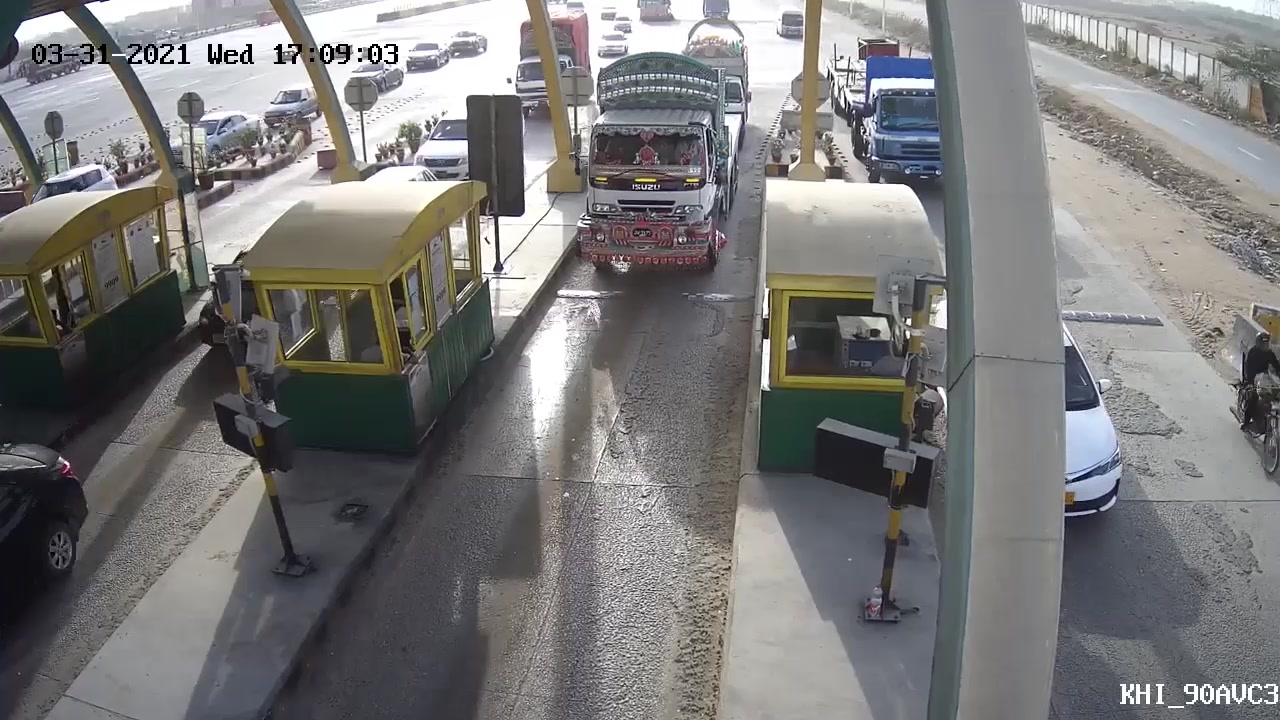F5: (568, 53, 746, 286)
